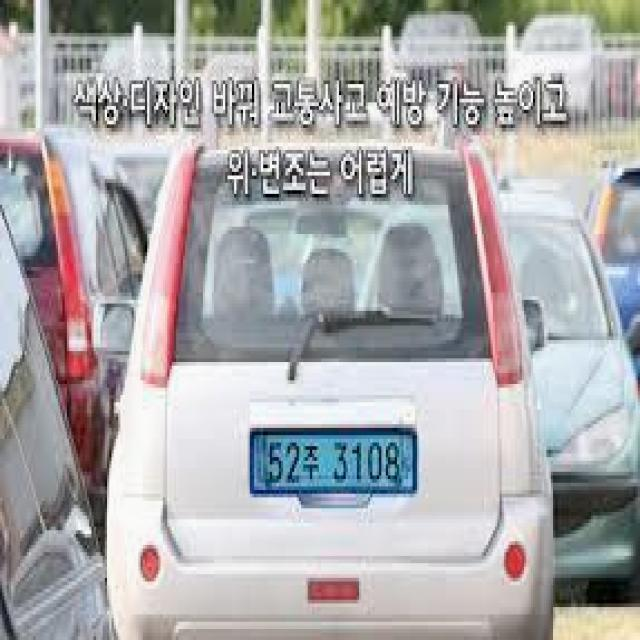EV_plate: (250, 423, 423, 508)
car: (106, 133, 564, 640)
